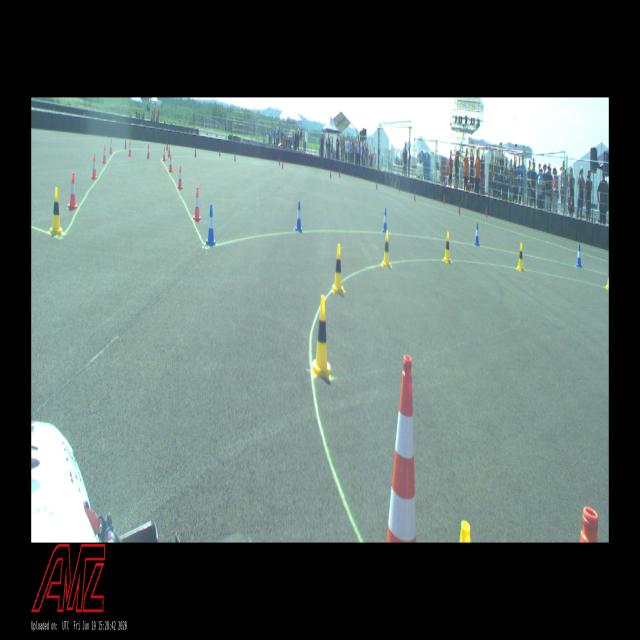blue_cone: (207, 204, 216, 245), (296, 202, 302, 231), (576, 245, 582, 266), (382, 209, 387, 232), (475, 222, 479, 245)
large_orange_cone: (386, 356, 416, 543)
orange_cone: (68, 172, 77, 208), (193, 188, 201, 220), (91, 156, 97, 179), (177, 166, 183, 189), (102, 144, 106, 162), (168, 154, 172, 172), (128, 142, 132, 156), (162, 146, 165, 160), (147, 144, 150, 158), (110, 139, 112, 154)
unknown_cone: (168, 146, 170, 158), (486, 207, 488, 218), (125, 139, 127, 149), (234, 152, 236, 162), (414, 191, 416, 201), (443, 195, 445, 205), (166, 142, 168, 150), (459, 203, 460, 215), (195, 148, 196, 157), (376, 181, 377, 189), (399, 184, 400, 192), (279, 158, 280, 165), (282, 161, 283, 168), (330, 171, 331, 178), (339, 170, 340, 177), (220, 149, 220, 156)
yellow_cone: (312, 296, 331, 378), (332, 244, 344, 292), (50, 188, 62, 234), (382, 231, 390, 266), (444, 232, 450, 262), (518, 243, 524, 270)
